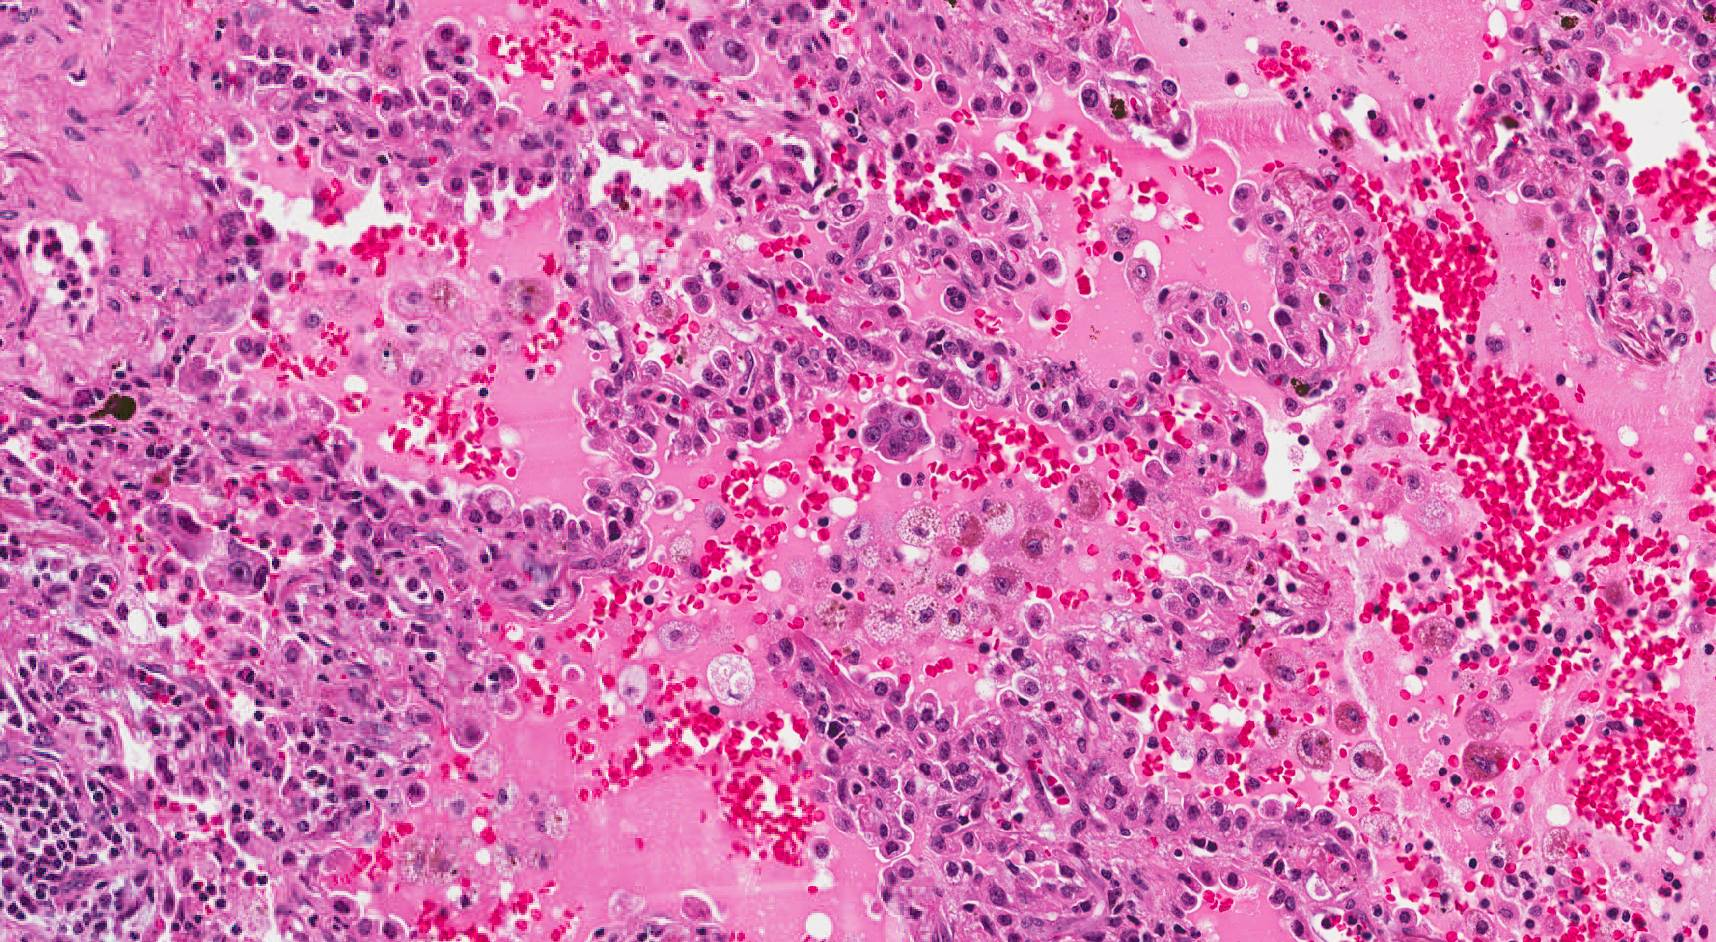stas: (858, 401, 931, 459), (205, 539, 272, 596)
